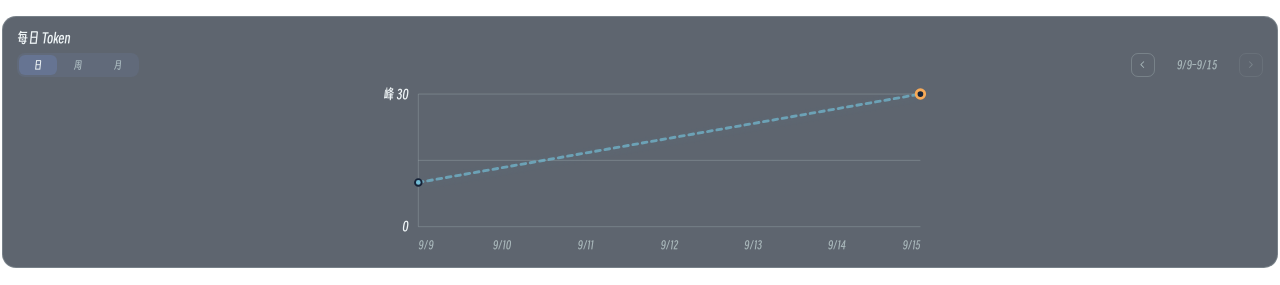
Test: DailyUsageTrend history navigation › slides weeks and months one bucket at a time
The width and height of the screenshot is (1280, 285).
Click the button "周": (78,65) [59, 55, 97, 75]
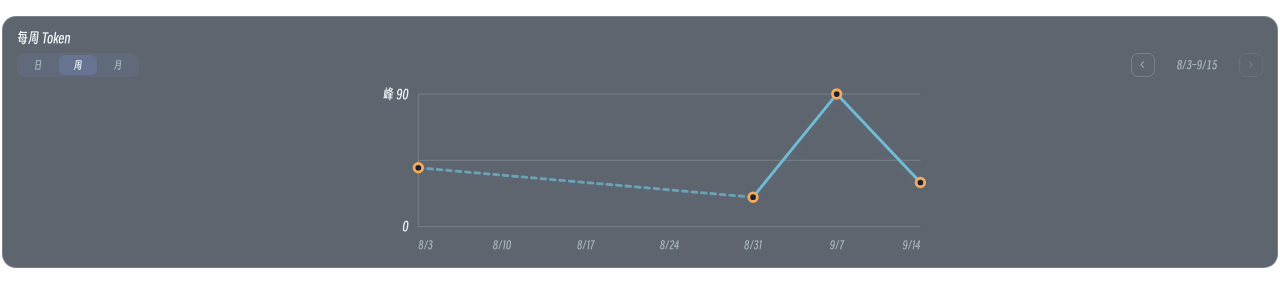
expect the text "8/3–9/15" is shown: met, box [1177, 58, 1217, 72]
Click the button named "往前": (1143,65) [1131, 53, 1155, 77]
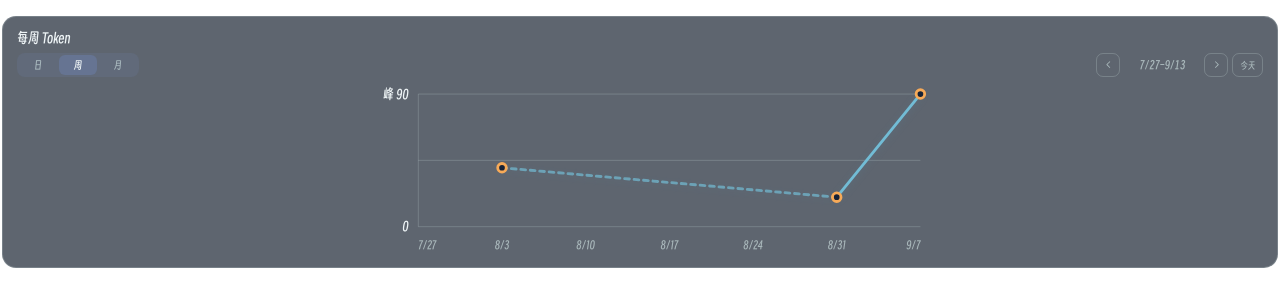
expect the text "7/27–9/13" is shown: met, box [1139, 58, 1185, 72]
Click the button "月": (118,65) [99, 55, 137, 75]
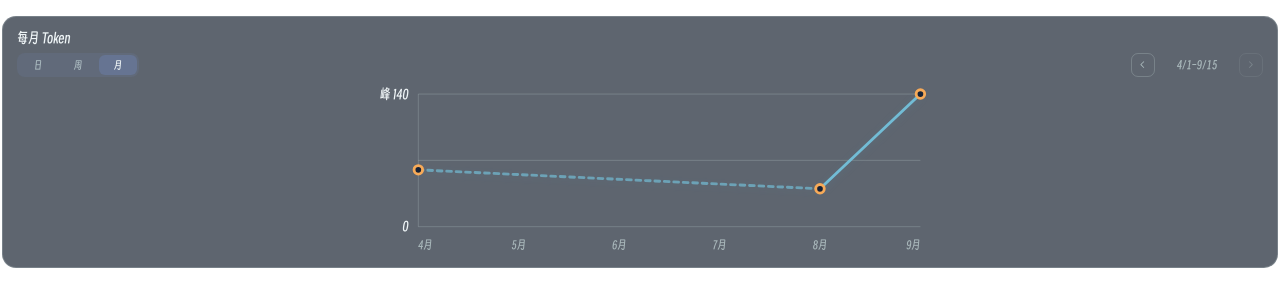
expect the text "4/1–9/15" is shown: met, box [1177, 58, 1217, 72]
Click the button named "往前": (1143,65) [1131, 53, 1155, 77]
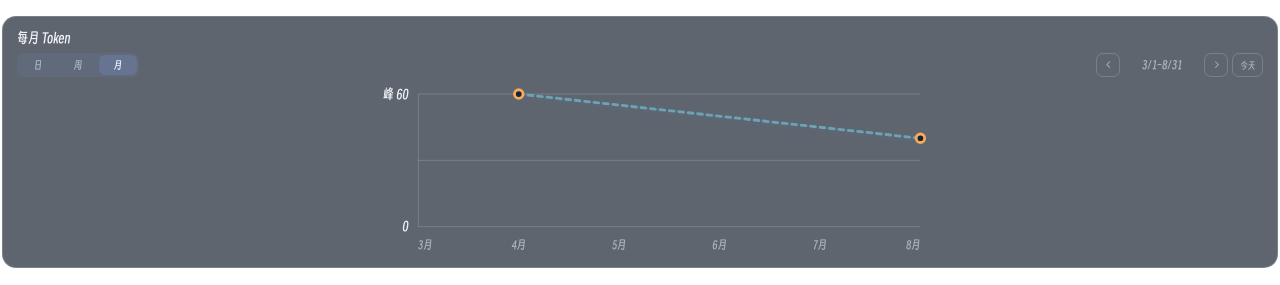
expect the text "3/1–8/31" is shown: met, box [1142, 58, 1183, 72]
